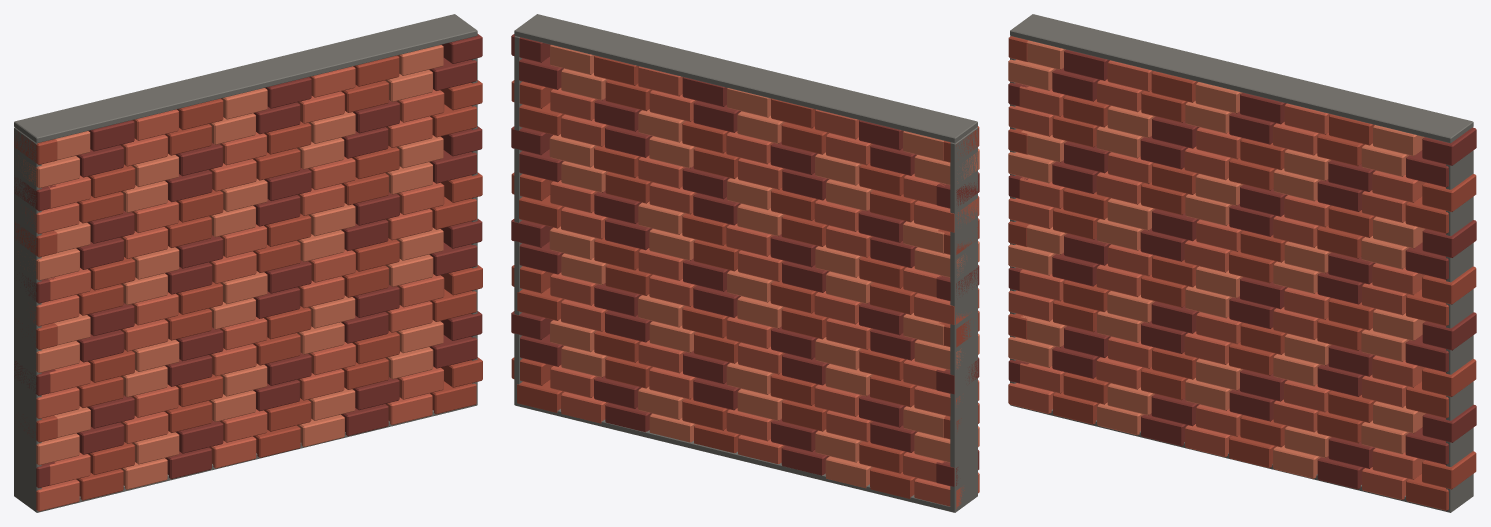
Rendered from ModularRedBrickWall.fbx.
3 renders of one model, left to right at view 1: azimuth 30°, elevation 25°; view 2: azimuth 150°, elevation 25°; view 3: azimuth 330°, elevation 25°, orthographic.
Visible parts, largest first — view 1: Flat_Top_Snap_Edge, Left_Side_Snap_Edge, Brick_R14_00, Brick_R02_09, Brick_R06_09, Brick_R02_01, Brick_R10_09, Brick_R06_01, Brick_R02_02, Brick_R12_09, Brick_R04_05, Brick_R06_02 (+155 smaller); view 2: Flat_Top_Snap_Edge, Left_Side_Snap_Edge, Flat_Bottom_Snap_Edge, Right_Side_Snap_Edge, Brick_R12_00, Brick_R04_09, Brick_R06_05, Brick_R14_04, Brick_R04_02, Brick_R14_00, Brick_R02_05, Brick_R10_04 (+155 smaller); view 3: Flat_Top_Snap_Edge, Right_Side_Snap_Edge, Brick_R09_10, Brick_R13_10, Brick_R05_10, Brick_R01_10, Brick_R03_10, Brick_R07_10, Brick_R15_10, Brick_R11_10, Brick_R13_09, Brick_R09_09 (+151 smaller).
Boxes of the visible parts, bbox=[...] form: Flat_Top_Snap_Edge: bbox=[14, 14, 477, 143]; Left_Side_Snap_Edge: bbox=[14, 127, 41, 512]; Brick_R14_00: bbox=[18, 155, 79, 188]; Brick_R02_09: bbox=[430, 335, 477, 368]; Brick_R06_09: bbox=[429, 242, 477, 275]; Brick_R02_01: bbox=[77, 422, 124, 454]; Brick_R10_09: bbox=[429, 150, 476, 183]; Brick_R06_01: bbox=[76, 330, 124, 362]; Brick_R02_02: bbox=[120, 411, 168, 443]; Brick_R12_09: bbox=[430, 104, 476, 137]; Brick_R04_05: bbox=[253, 333, 300, 365]; Brick_R06_02: bbox=[120, 319, 168, 351]; Flat_Top_Snap_Edge: bbox=[514, 14, 977, 143]; Left_Side_Snap_Edge: bbox=[950, 127, 977, 512]; Flat_Bottom_Snap_Edge: bbox=[514, 401, 973, 512]; Right_Side_Snap_Edge: bbox=[514, 36, 522, 404]; Brick_R12_00: bbox=[914, 196, 979, 232]; Brick_R04_09: bbox=[517, 287, 564, 320]; Brick_R06_05: bbox=[693, 285, 740, 317]; Brick_R14_04: bbox=[737, 111, 785, 143]; Brick_R04_02: bbox=[825, 364, 873, 396]; Brick_R14_00: bbox=[914, 148, 979, 185]; Brick_R02_05: bbox=[693, 378, 740, 410]; Brick_R10_04: bbox=[737, 204, 784, 236]; Flat_Top_Snap_Edge: bbox=[1010, 14, 1473, 143]; Right_Side_Snap_Edge: bbox=[1446, 150, 1473, 512]; Brick_R09_10: bbox=[1422, 266, 1476, 304]; Brick_R13_10: bbox=[1422, 174, 1476, 211]; Brick_R05_10: bbox=[1422, 359, 1476, 396]; Brick_R01_10: bbox=[1422, 451, 1476, 489]; Brick_R03_10: bbox=[1422, 404, 1476, 442]; Brick_R07_10: bbox=[1422, 312, 1476, 350]; Brick_R15_10: bbox=[1422, 127, 1476, 165]; Brick_R11_10: bbox=[1422, 220, 1476, 257]; Brick_R13_09: bbox=[1372, 170, 1425, 202]; Brick_R09_09: bbox=[1372, 263, 1425, 295].
Size of what is drawn, in the model's own units: 403 by 325 by 39.5.
